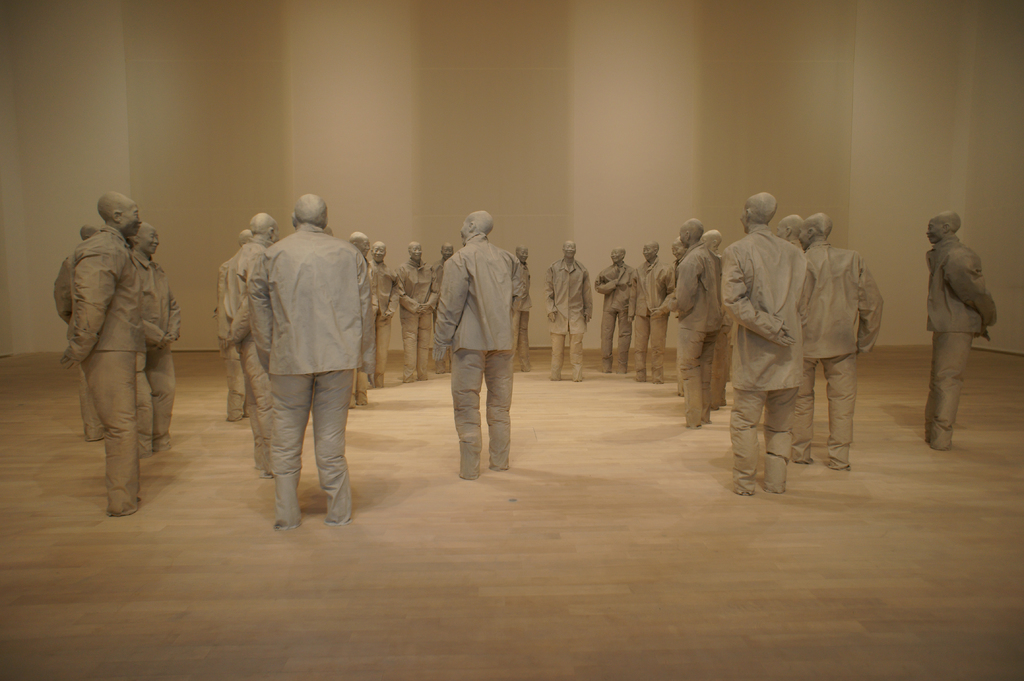Person: (52, 192, 997, 535)
